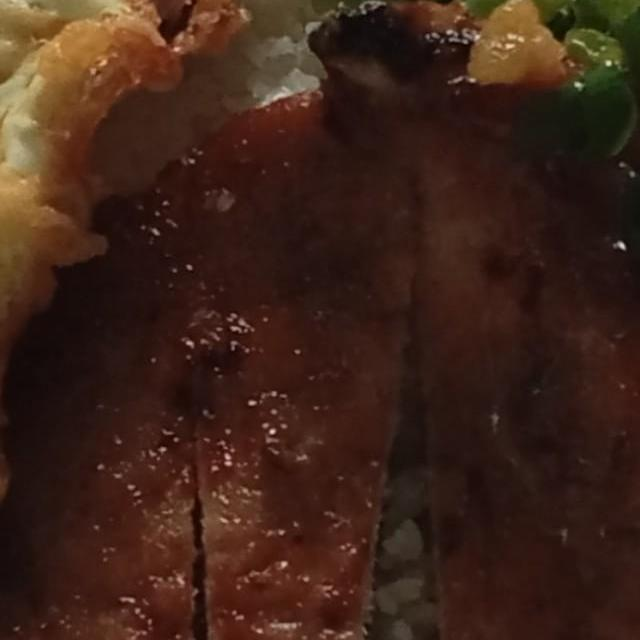com: (68, 0, 407, 219), (270, 450, 511, 640)
suon: (0, 0, 640, 640)
trung: (0, 0, 315, 640)
